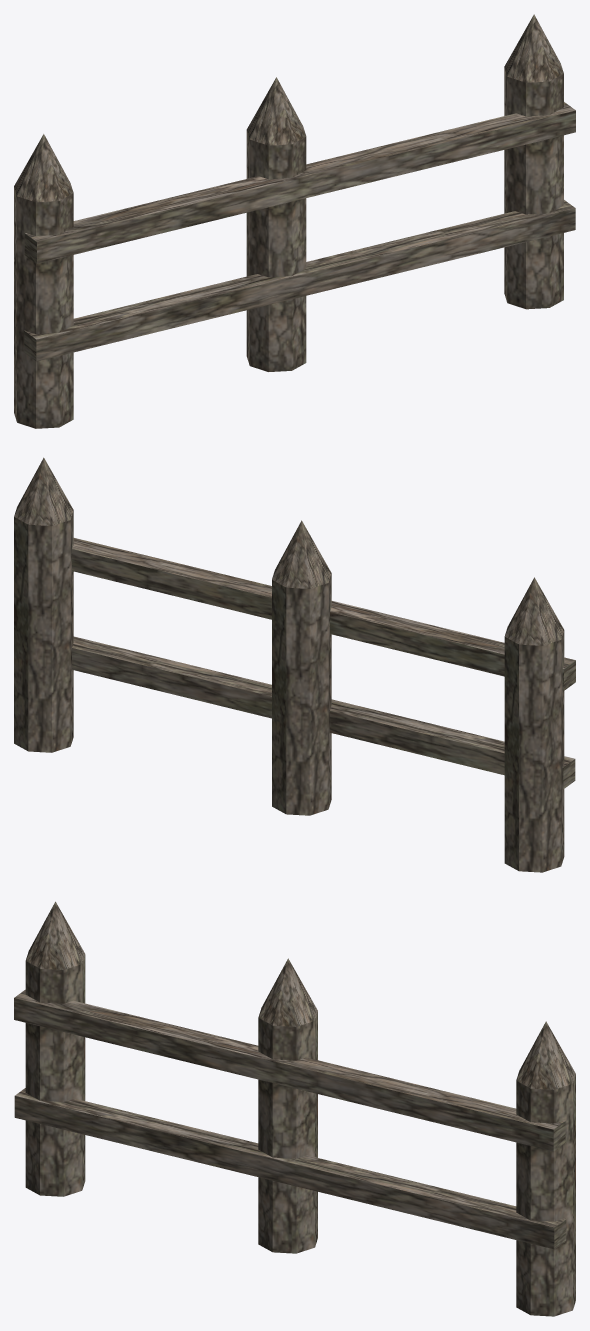
File: Cerca2.fbx
3 renders of one model, top to bottom at view 1: azimuth 30°, elevation 25°; view 2: azimuth 150°, elevation 25°; view 3: azimuth 330°, elevation 25°, orthographic.
Parts seen in each view (by area): view 1: CercaPadrao1; view 2: CercaPadrao1; view 3: CercaPadrao1.
Boxes of the visible parts, <box> form: CercaPadrao1: <box>14,14,575,428</box>; CercaPadrao1: <box>14,457,575,872</box>; CercaPadrao1: <box>14,901,575,1316</box>.
Bounding box in the file's own units: 262 × 27.32 × 130.
